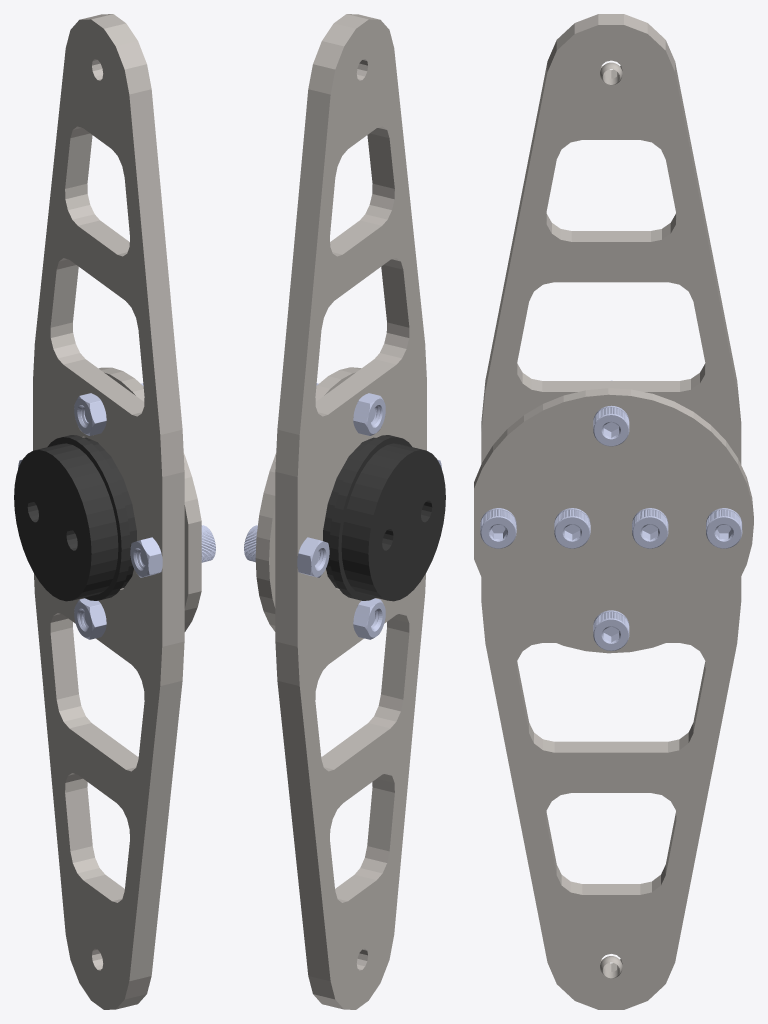
Rendered from Diff Bar.glb.
3 views of the same model, side by side, from view 1: azimuth 30°, elevation 25°; view 2: azimuth 150°, elevation 25°; view 3: azimuth 270°, elevation 25° (orthographic).
Size of the model in its own units: 0.022 by 0.2095 by 0.054.
